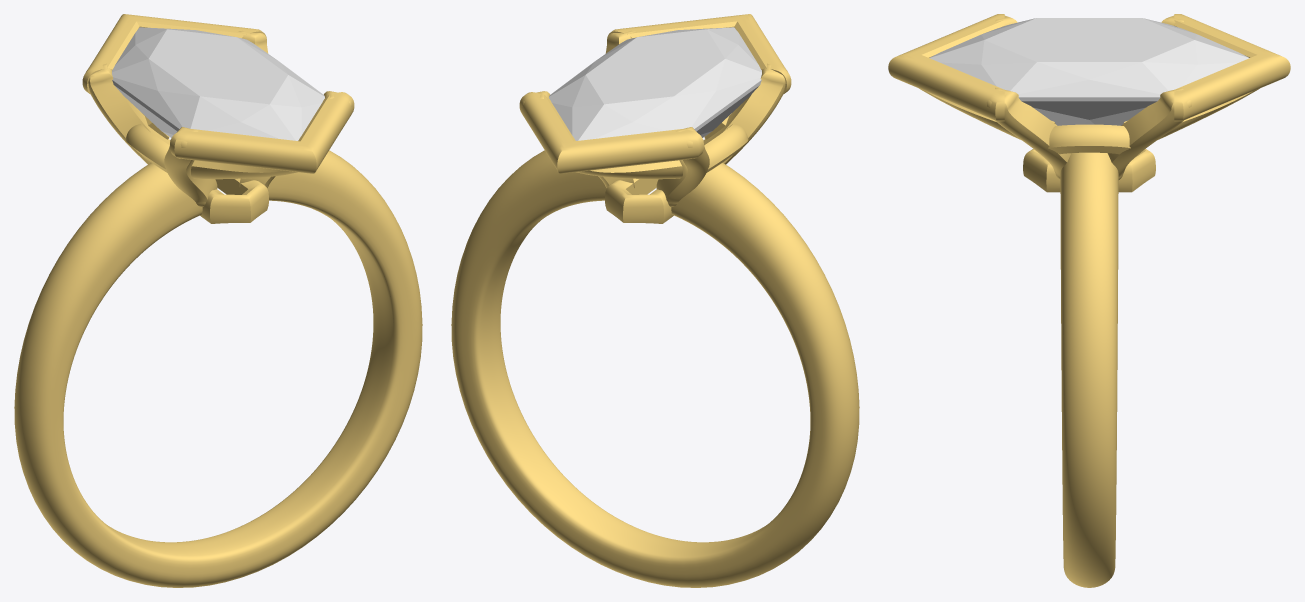
The model's file is KathyGmatteYGV4.glb.
3 renders of one model, left to right at view 1: azimuth 30°, elevation 25°; view 2: azimuth 150°, elevation 25°; view 3: azimuth 270°, elevation 25°, orthographic. The views are drawn at different scales.
Parts seen in each view (by area): view 1: V5 Kathy PT for 3d model, Kathy dia for 3d model; view 2: V5 Kathy PT for 3d model, Kathy dia for 3d model; view 3: V5 Kathy PT for 3d model, Kathy dia for 3d model.
Boxes of the visible parts, box(x1,y1,x2,y2) form: V5 Kathy PT for 3d model: box(14, 14, 422, 587); Kathy dia for 3d model: box(112, 27, 324, 140); V5 Kathy PT for 3d model: box(451, 14, 859, 587); Kathy dia for 3d model: box(549, 27, 761, 140); V5 Kathy PT for 3d model: box(888, 14, 1290, 587); Kathy dia for 3d model: box(929, 18, 1249, 125).
Size of the model in its own units: 20.31 by 24.98 by 17.32.
